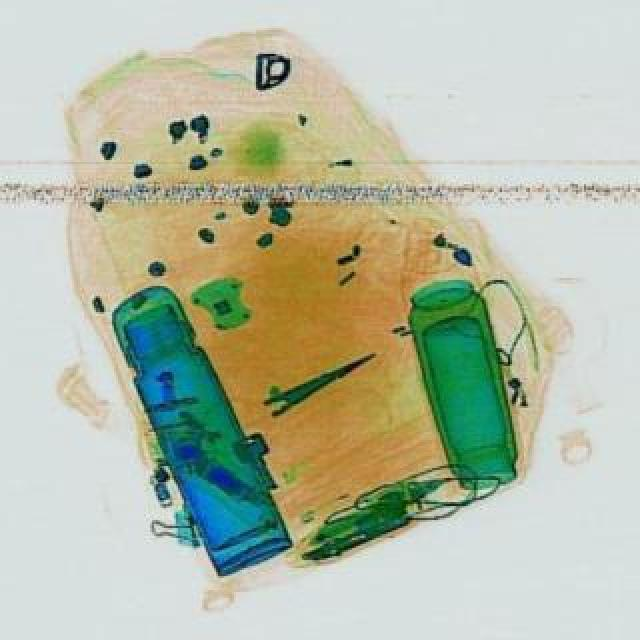knife: (258, 340, 380, 418)
